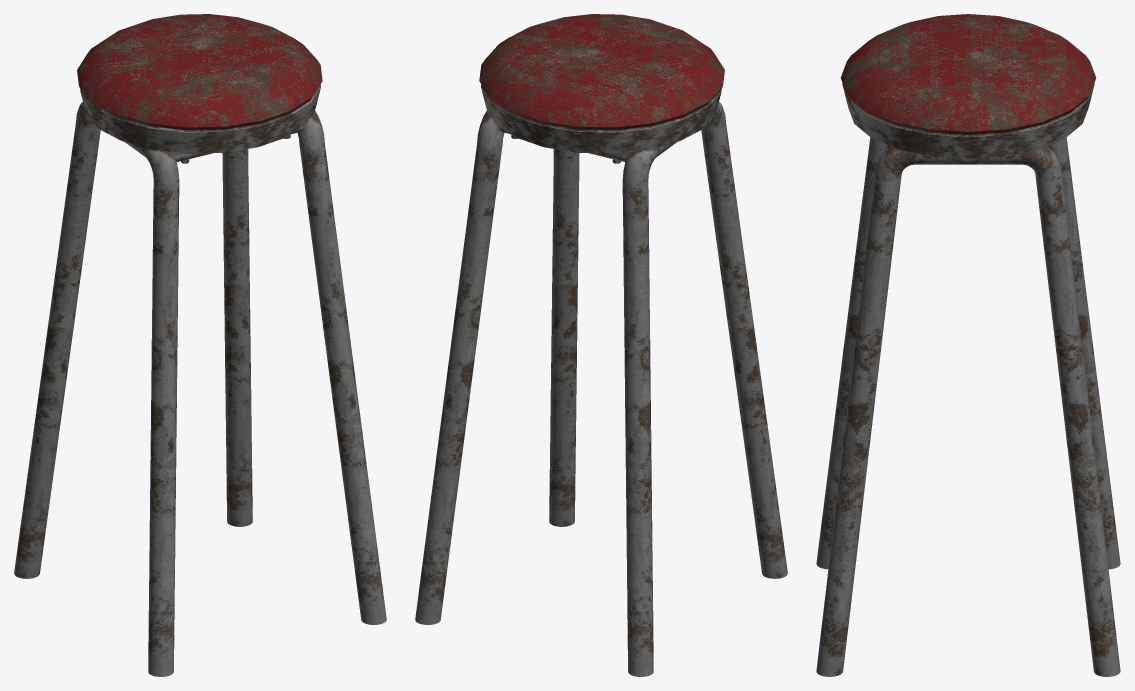
Rendered from obj_old_barstool_117a24.glb.
The picture shows the model from 3 angles, left to right: view 1: azimuth 30°, elevation 25°; view 2: azimuth 150°, elevation 25°; view 3: azimuth 270°, elevation 25°; orthographic projection. The views are drawn at different scales.
Parts seen in each view (by area): view 1: obj_old_barstool_117a24; view 2: obj_old_barstool_117a24; view 3: obj_old_barstool_117a24.
Part boxes in pixels (x1=…): obj_old_barstool_117a24: x1=14, y1=14, x2=386, y2=676; obj_old_barstool_117a24: x1=415, y1=14, x2=787, y2=676; obj_old_barstool_117a24: x1=816, y1=14, x2=1120, y2=676.
Bounding box in the file's own units: 0.2256 × 0.5 × 0.244.
1 material, 1 textured.
